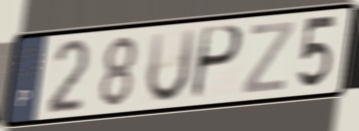2: (45, 36, 92, 117)
5: (295, 12, 341, 92)
8: (96, 33, 141, 111)
P: (188, 23, 245, 103)
U: (144, 25, 199, 106)
Z: (239, 18, 297, 96)
